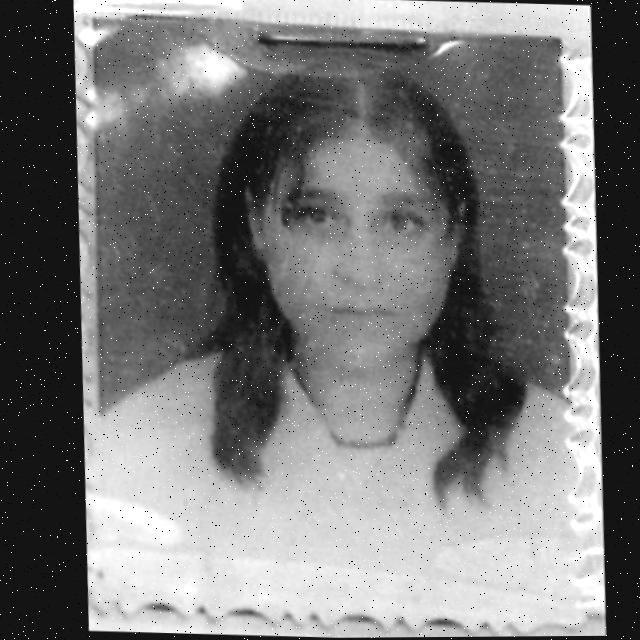face: (227, 53, 478, 388)
